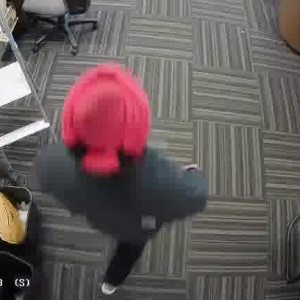person: (46, 71, 191, 264)
